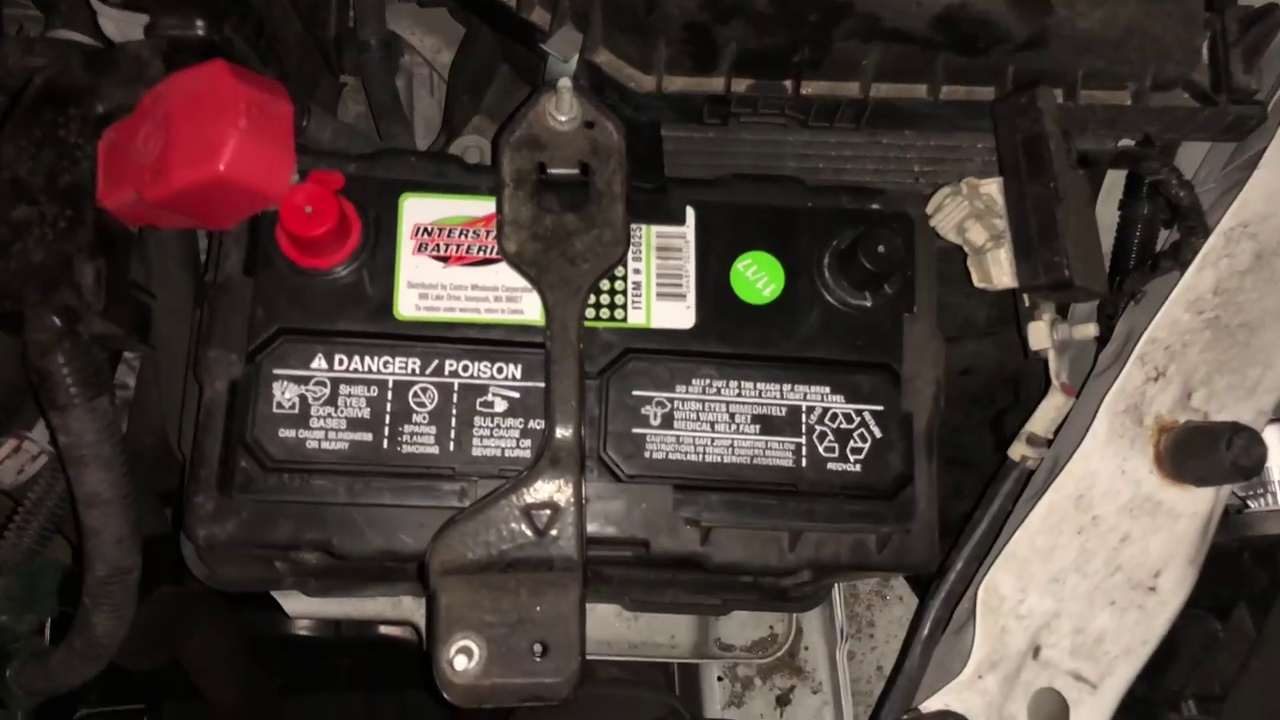battery: (218, 144, 930, 583)
pos_disconnected: (116, 83, 363, 276)
